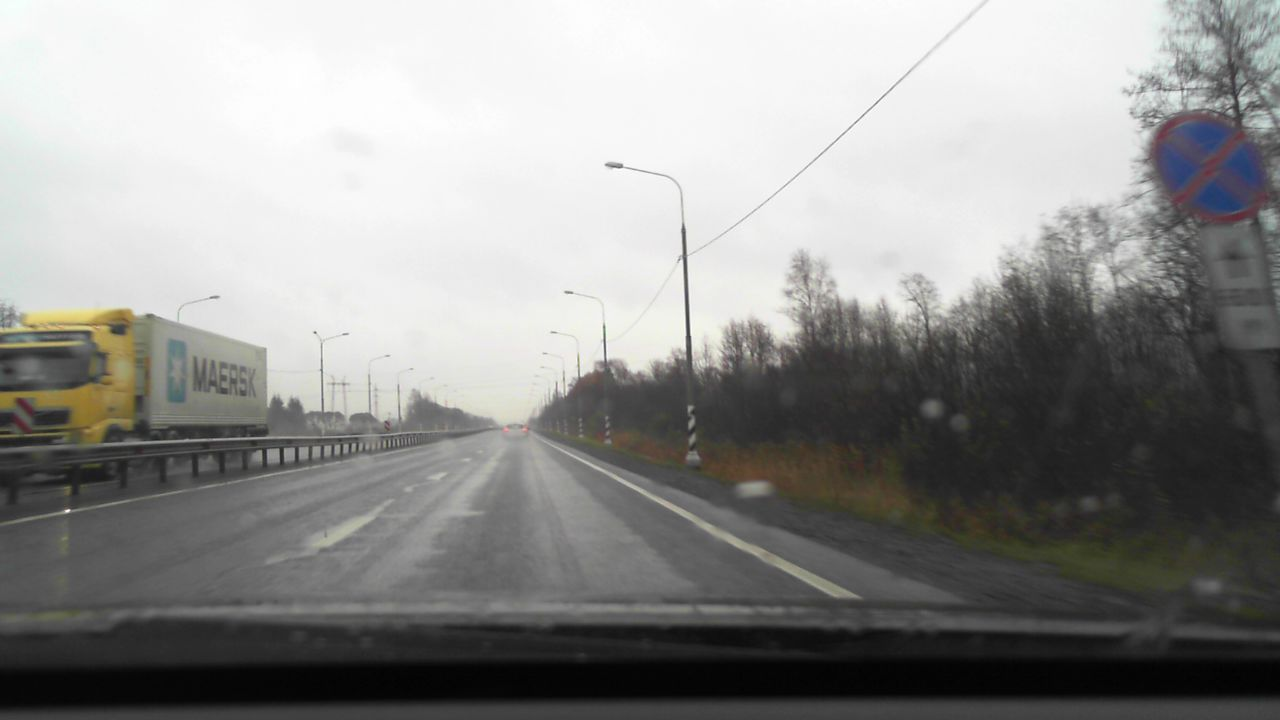No Parking: (1152, 114, 1268, 224)
